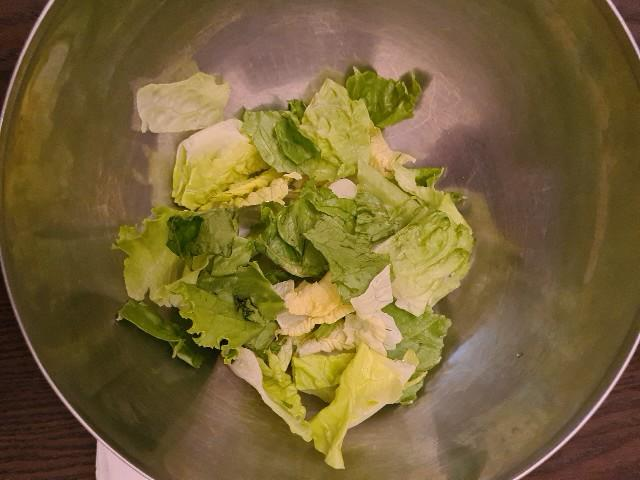kichen waste: (119, 70, 473, 468)
